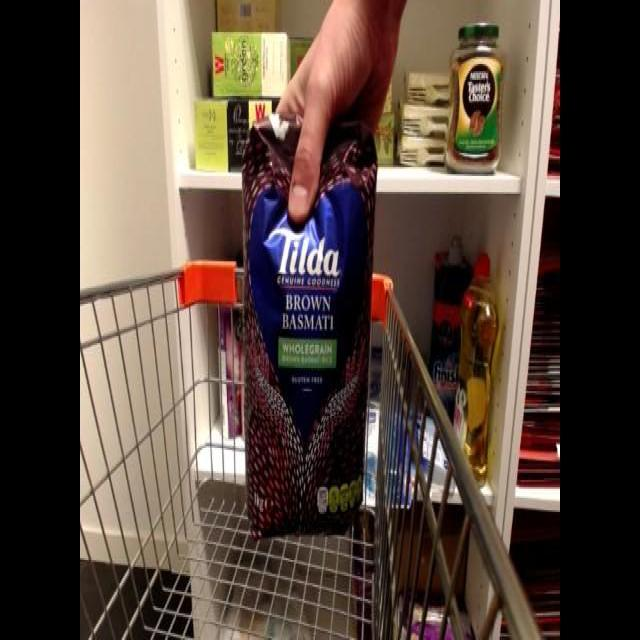Tida: (234, 108, 384, 548)
